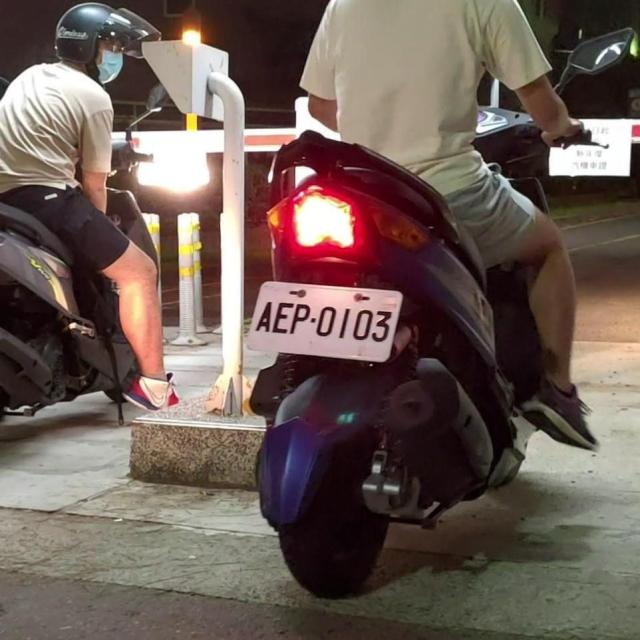W: (245, 277, 405, 363)
